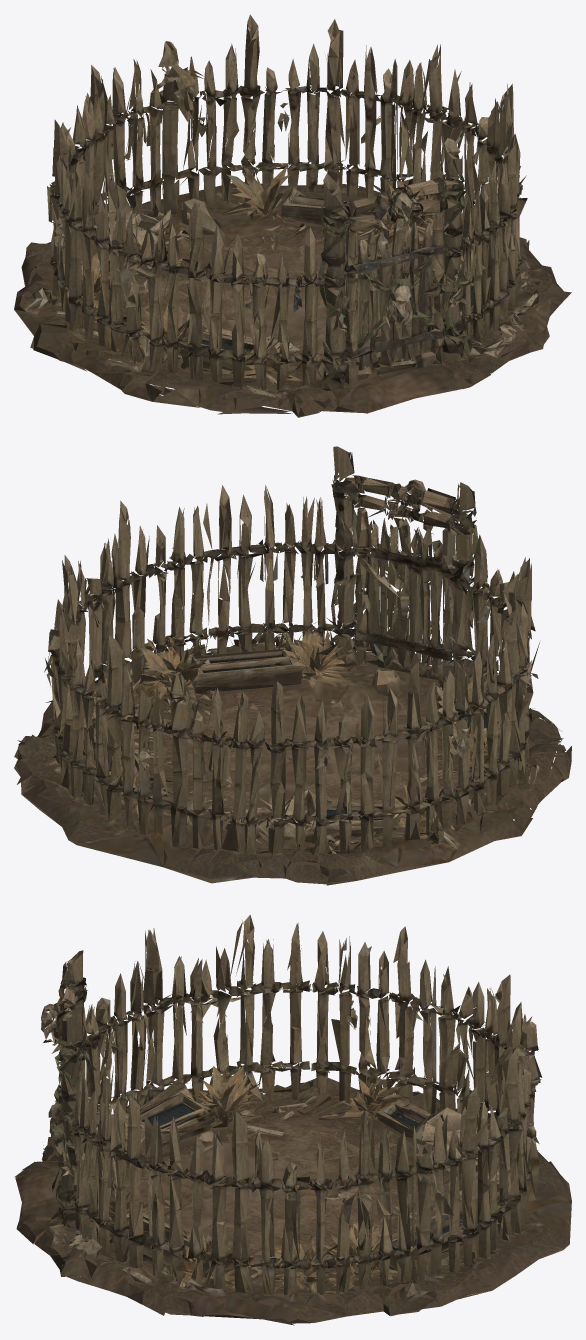
The model's file is raptor_pen.glb.
3 views of the same model, one above another, from view 1: azimuth 30°, elevation 25°; view 2: azimuth 150°, elevation 25°; view 3: azimuth 270°, elevation 25° (orthographic). The views are drawn at different scales.
Parts seen in each view (by area): view 1: Mesh_0; view 2: Mesh_0; view 3: Mesh_0.
Boxes of the visible parts, <box> form: Mesh_0: <box>14,14,571,417</box>; Mesh_0: <box>14,446,571,885</box>; Mesh_0: <box>14,915,571,1325</box>.
Bounding box in the file's own units: 6.5 × 2.94 × 6.31.
1 material, 1 textured.
